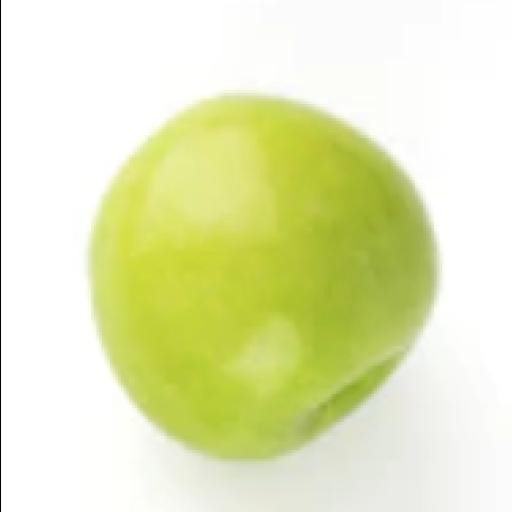apple: (90, 98, 435, 457)
